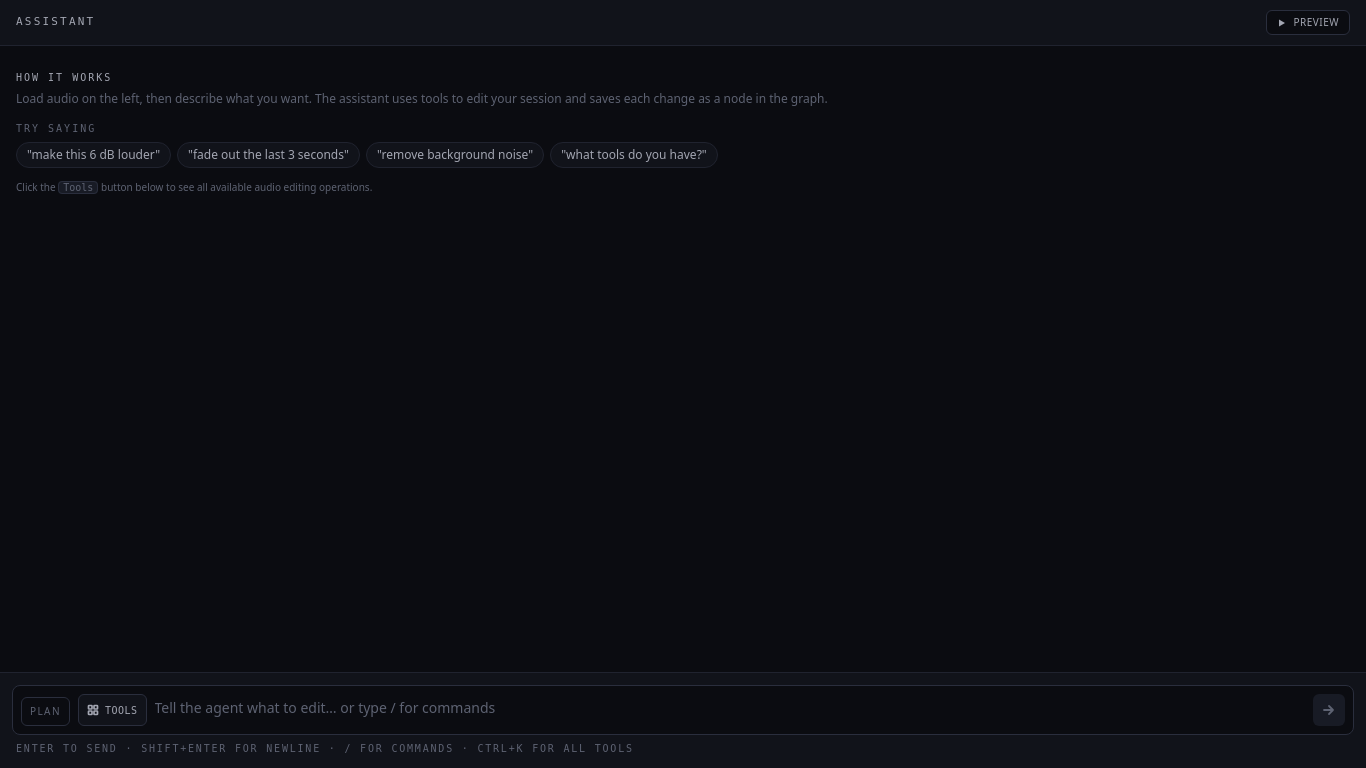
Test case: Chat › the Open Settings button on a failed send › appears when an OpenAI-compatible provider rejects the key
In the text box named "Message": x=730, y=712 154,698 -> 1305,726, type "make it louder"
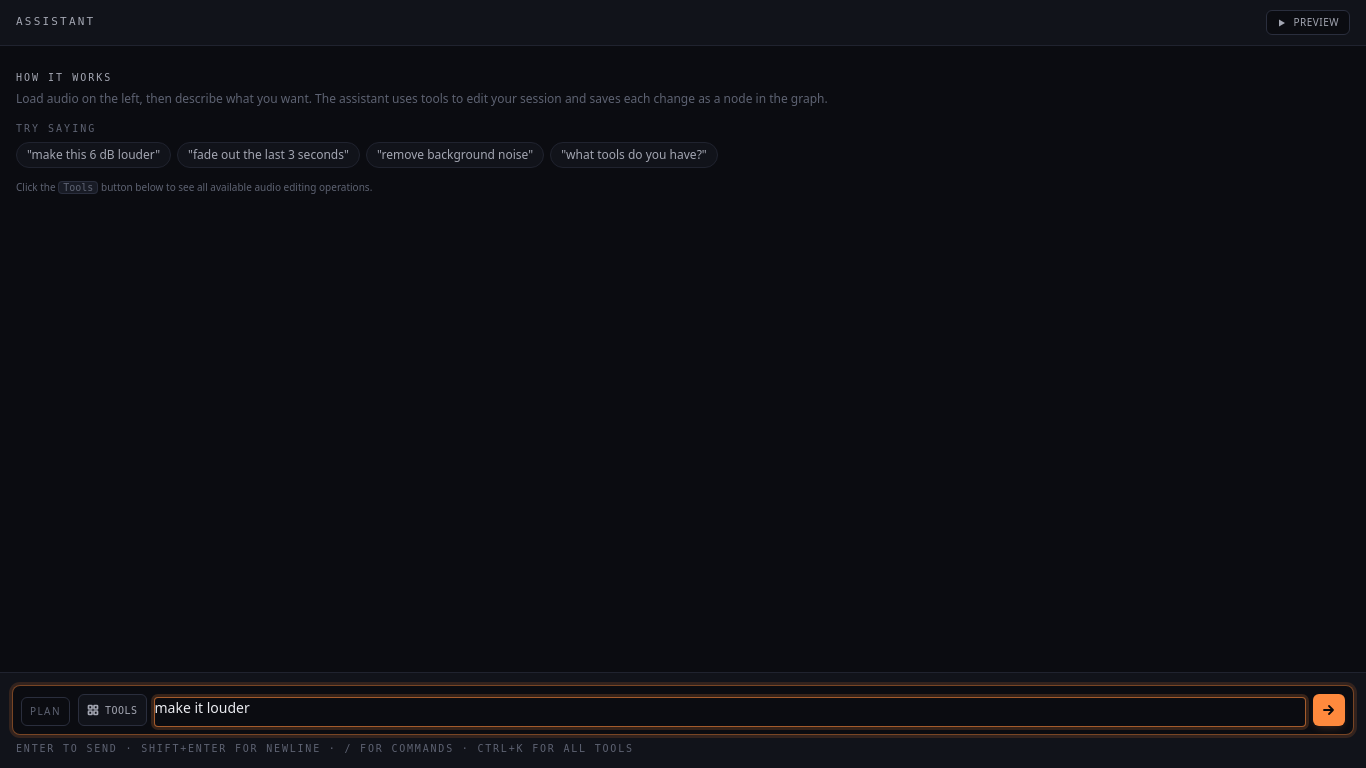
Click the button named "send": x=1329, y=710 1313,694 -> 1345,726
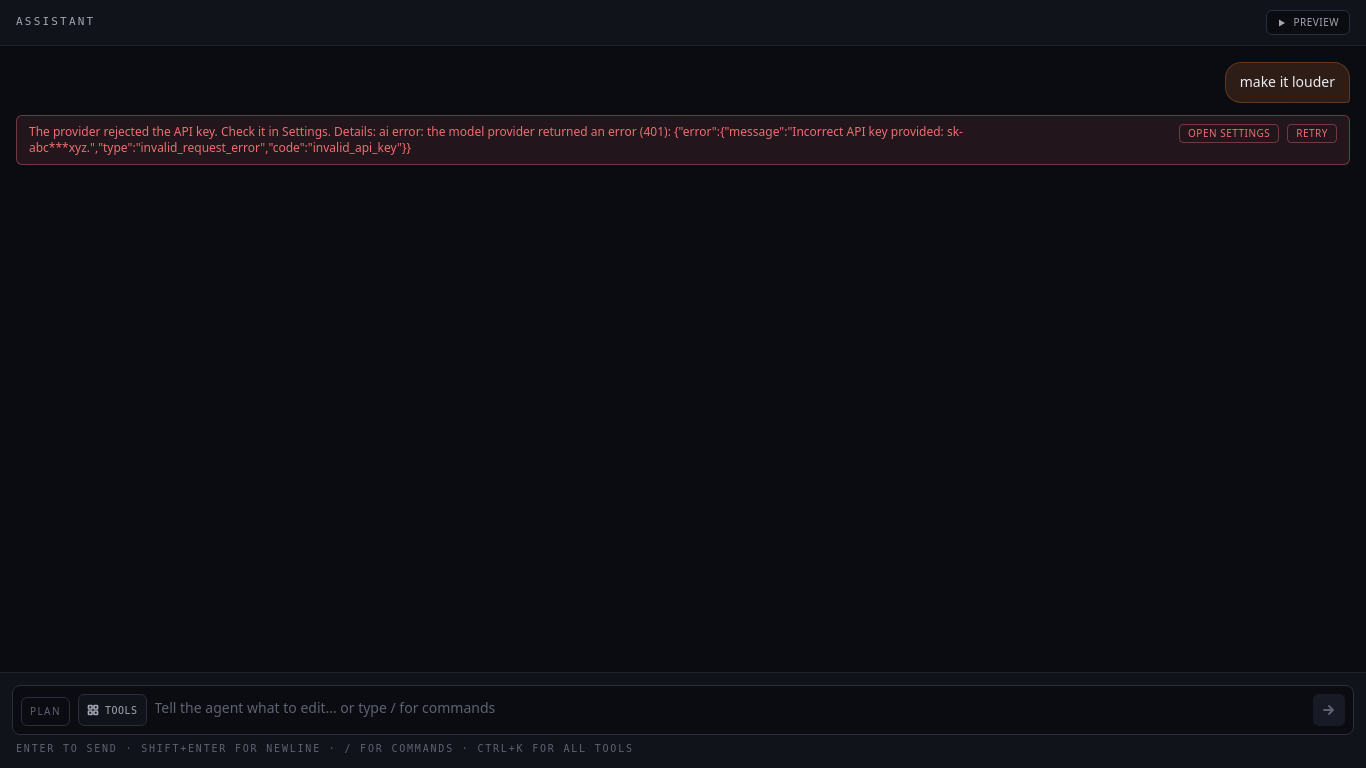
Now the button with test id "chat-error-open-settings" is shown, box 1179,124 -> 1279,143
